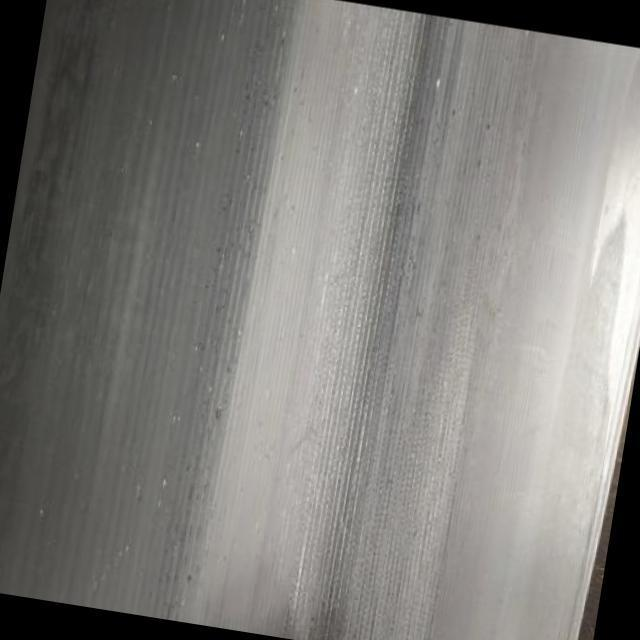Wear: (154, 0, 464, 640)
